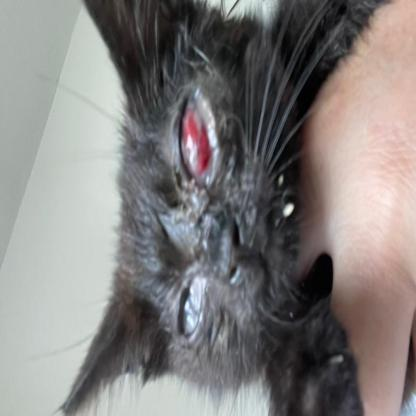cat: (86, 0, 340, 416)
injured: (139, 94, 243, 228)
